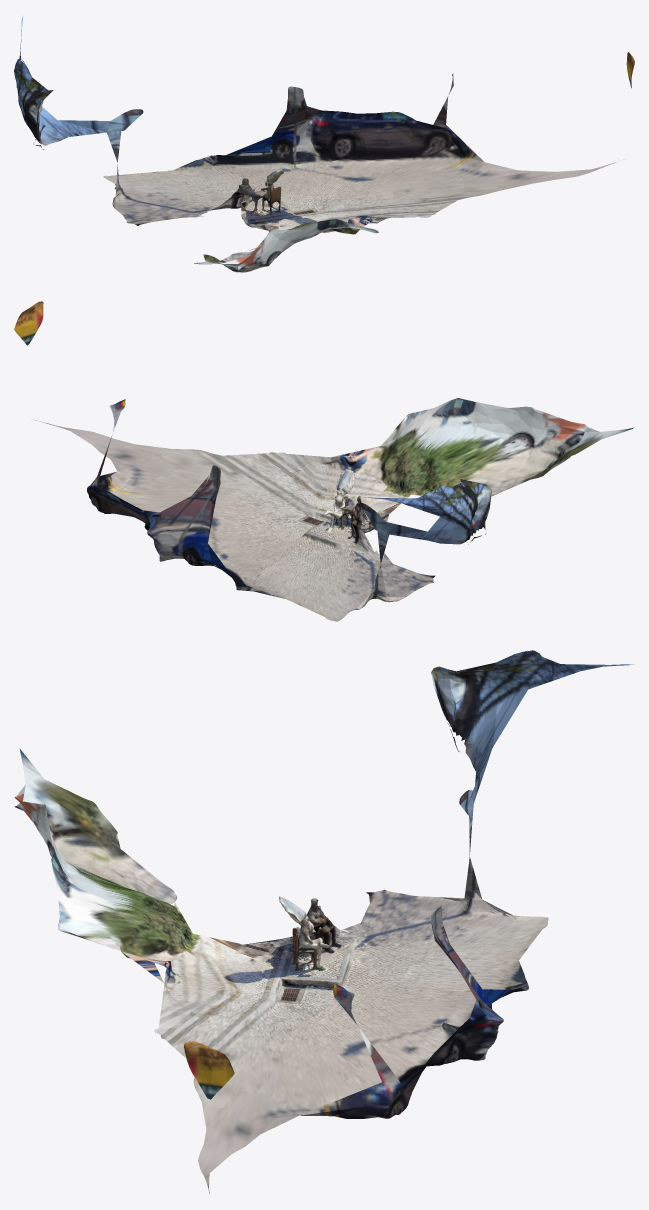
File: choco_frito.obj
The picture shows the model from 3 angles, top to bottom: view 1: azimuth 30°, elevation 25°; view 2: azimuth 150°, elevation 25°; view 3: azimuth 270°, elevation 25°; orthographic projection. The views are drawn at different scales.
Visible parts, largest first — view 1: mesh; view 2: mesh; view 3: mesh.
Part boxes in pixels (x1,y1,x2,y2): mesh: (14,16,634,272); mesh: (14,301,633,621); mesh: (14,650,633,1193).
Size of the model in its own units: 18.19 by 5.32 by 13.11.
1 material, 1 textured.
